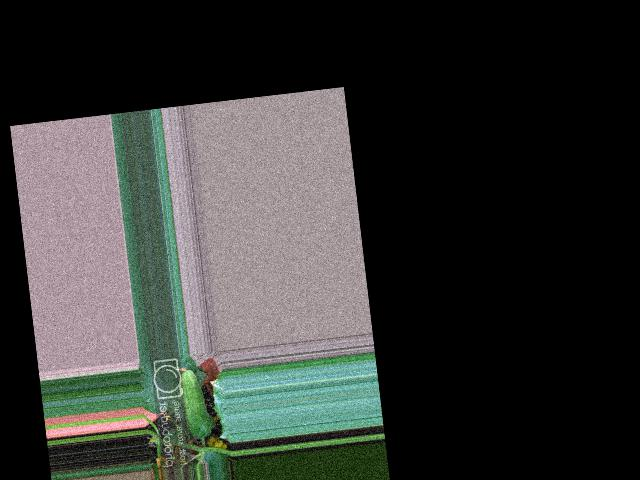cucumber: (176, 367, 212, 438)
